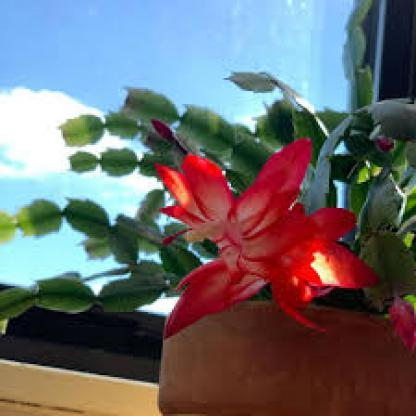Aglonema: (27, 88, 352, 280)
